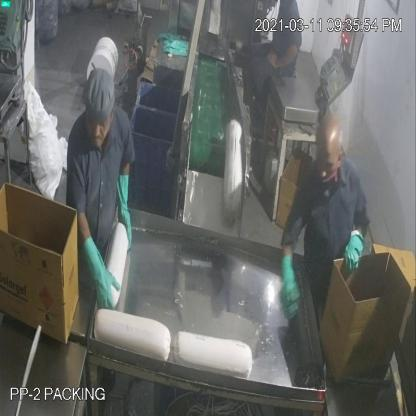glove: (78, 231, 120, 313), (278, 242, 305, 331), (113, 169, 138, 254), (344, 219, 366, 282)
no_glove: (266, 41, 300, 71)
